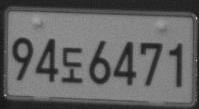1: (166, 42, 189, 87)
4: (112, 41, 137, 85), (34, 37, 58, 82)
6: (88, 40, 111, 85)
7: (139, 42, 164, 86)
9: (11, 36, 33, 81)
도: (60, 46, 83, 83)
